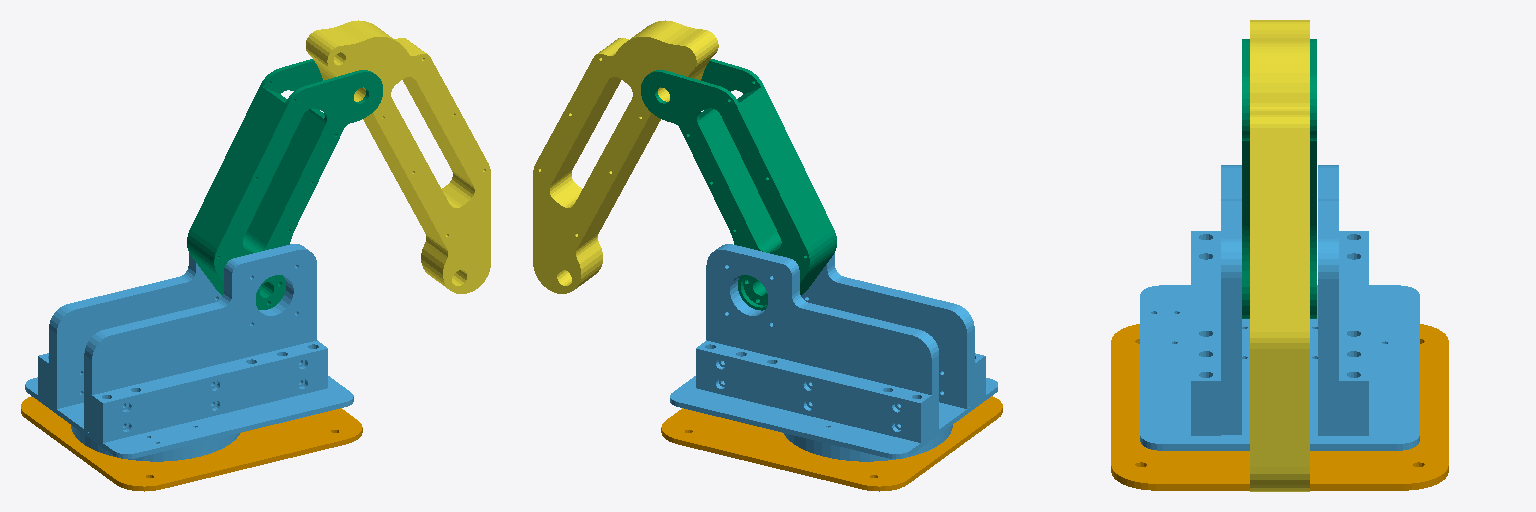
URDF robot description (updated_urdf_model):
<!-- <?xml version="1.0" ?> -->
<robot name="updated_urdf_model" xmlns:xacro="http://www.ros.org/wiki/xacro">
<!-- 
<xacro:include filename="$(find updated_urdf_model_description)/urdf/materials.xacro" />
<xacro:include filename="$(find updated_urdf_model_description)/urdf/updated_urdf_model.trans" />
<xacro:include filename="$(find updated_urdf_model_description)/urdf/updated_urdf_model.gazebo" /> -->
<link name="base_link">
  <inertial>
    <origin xyz="0.03699976159111437 2.107137190130755e-12 0.0024999999999999576" rpy="0 0 0"/>
    <mass value="2.2016928137587"/>
    <inertia ixx="0.009089" iyy="0.011665" izz="0.020745" ixy="-0.0" iyz="0.0" ixz="0.0"/>
  </inertial>
  <visual>
    <origin xyz="0 0 0" rpy="0 0 0"/>
    <geometry>
      <mesh filename="package://updated_urdf_model_description/meshes/base_link.stl" scale="0.001 0.001 0.001"/>
    </geometry>
    <material name="silver"/>
  </visual>
  <collision>
    <origin xyz="0 0 0" rpy="0 0 0"/>
    <geometry>
      <mesh filename="package://updated_urdf_model_description/meshes/base_link.stl" scale="0.001 0.001 0.001"/>
    </geometry>
  </collision>
</link>

<link name="base_rot_1">
  <inertial>
    <origin xyz="0.029378517969636406 0.00040312085777323864 0.056678397843377595" rpy="0 0 0"/>
    <mass value="11.187547108993652"/>
    <inertia ixx="0.035588" iyy="0.066881" izz="0.072998" ixy="-0.000415" iyz="-5.6e-05" ixz="-0.004536"/>
  </inertial>
  <visual>
    <origin xyz="0.0 0.0 -0.005" rpy="0 0 0"/>
    <geometry>
      <mesh filename="package://updated_urdf_model_description/meshes/base_rot_1.stl" scale="0.001 0.001 0.001"/>
    </geometry>
    <material name="silver"/>
  </visual>
  <collision>
    <origin xyz="0.0 0.0 -0.005" rpy="0 0 0"/>
    <geometry>
      <mesh filename="package://updated_urdf_model_description/meshes/base_rot_1.stl" scale="0.001 0.001 0.001"/>
    </geometry>
  </collision>
</link>

<link name="arm1_1">
  <inertial>
    <origin xyz="0.03187716153945208 0.02528127842485809 0.06591431829133973" rpy="0 0 0"/>
    <mass value="4.105612175342894"/>
    <inertia ixx="0.010761" iyy="0.018729" izz="0.009815" ixy="-0.000127" iyz="-0.000128" ixz="-0.006504"/>
  </inertial>
  <visual>
    <origin xyz="-0.101737 0.023889 -0.127799" rpy="0 0 0"/>
    <geometry>
      <mesh filename="package://updated_urdf_model_description/meshes/arm1_1.stl" scale="0.001 0.001 0.001"/>
    </geometry>
    <material name="silver"/>
  </visual>
  <collision>
    <origin xyz="-0.101737 0.023889 -0.127799" rpy="0 0 0"/>
    <geometry>
      <mesh filename="package://updated_urdf_model_description/meshes/arm1_1.stl" scale="0.001 0.001 0.001"/>
    </geometry>
  </collision>
</link>

<link name="arm2_1">
  <inertial>
    <origin xyz="0.07328522944310023 0.02100843836020138 -0.07001250852081423" rpy="0 0 0"/>
    <mass value="4.811155320953158"/>
    <inertia ixx="0.030913" iyy="0.041034" izz="0.011409" ixy="-0.000128" iyz="0.00019" ixz="0.014862"/>
  </inertial>
  <visual>
    <origin xyz="-0.251552 0.016869 -0.258391" rpy="0 0 0"/>
    <geometry>
      <mesh filename="package://updated_urdf_model_description/meshes/arm2_1.stl" scale="0.001 0.001 0.001"/>
    </geometry>
    <material name="silver"/>
  </visual>
  <collision>
    <origin xyz="-0.251552 0.016869 -0.258391" rpy="0 0 0"/>
    <geometry>
      <mesh filename="package://updated_urdf_model_description/meshes/arm2_1.stl" scale="0.001 0.001 0.001"/>
    </geometry>
  </collision>
</link>

<joint name="Revolute 4" type="revolute">
  <origin xyz="0.0 0.0 0.005" rpy="0 0 0"/>
  <parent link="base_link"/>
  <child link="base_rot_1"/>
  <axis xyz="-0.0 -0.0 -1.0"/>
  <limit upper="1.570796" lower="-1.570796" effort="100" velocity="100"/>
</joint>

<joint name="Revolute 5" type="revolute">
  <origin xyz="0.101737 -0.023889 0.122799" rpy="0 0 0"/>
  <parent link="base_rot_1"/>
  <child link="arm1_1"/>
  <axis xyz="0.013476 -0.999909 -0.0"/>
  <limit upper="0.523599" lower="-1.047198" effort="100" velocity="100"/>
</joint>

<joint name="Revolute 6" type="revolute">
  <origin xyz="0.149815 0.00702 0.130592" rpy="0 0 0"/>
  <parent link="arm1_1"/>
  <child link="arm2_1"/>
  <axis xyz="-0.013476 0.999909 0.0"/>
  <limit upper="0.349066" lower="-1.570796" effort="100" velocity="100"/>
</joint>

</robot>

--- Render facts (derived) ---
The picture shows the robot from 3 angles, left to right: view 1: azimuth 30°, elevation 25°; view 2: azimuth 150°, elevation 25°; view 3: azimuth 270°, elevation 25°; orthographic projection.
Model updated_urdf_model with 4 links and 3 joints (3 revolute), rooted at base_link, posed every joint at zero.
Visible links, largest first — view 1: base_rot_1, arm1_1, arm2_1, base_link; view 2: base_rot_1, arm1_1, arm2_1, base_link; view 3: base_rot_1, arm2_1, base_link, arm1_1.
Link boxes in pixels (box(x1,y1,x2,y2)): base_rot_1: box(25, 244, 353, 461); arm1_1: box(187, 59, 382, 309); arm2_1: box(306, 20, 490, 293); base_link: box(21, 396, 362, 491); base_rot_1: box(670, 244, 997, 461); arm1_1: box(641, 59, 836, 310); arm2_1: box(533, 20, 718, 293); base_link: box(661, 396, 1002, 491); base_rot_1: box(1140, 165, 1419, 450); arm2_1: box(1250, 20, 1309, 491); base_link: box(1111, 324, 1448, 490); arm1_1: box(1242, 39, 1316, 318).
Bounding box of the posed robot: 0.4309 × 0.225 × 0.3528 m (x, y, z).
4 mesh visuals loaded from 4 distinct referenced files (4 binary STL).